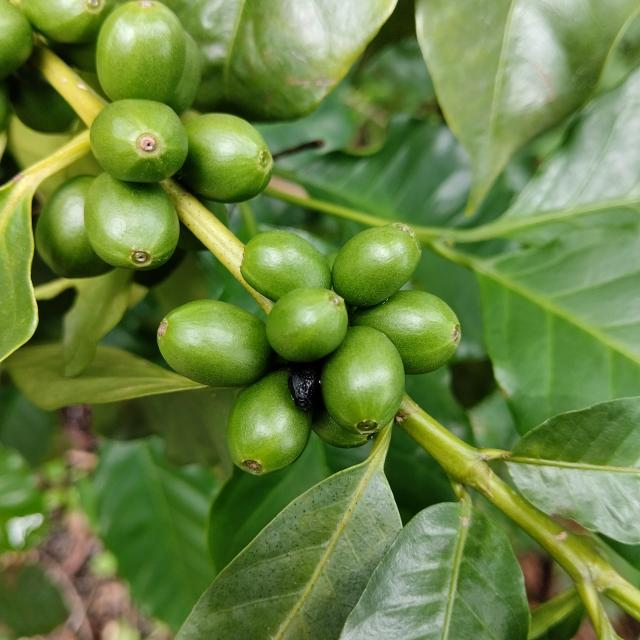green: (157, 300, 273, 387), (83, 172, 179, 270), (350, 290, 461, 374), (95, 0, 185, 102), (321, 326, 405, 434), (227, 370, 312, 476), (179, 113, 273, 203), (89, 99, 188, 182), (34, 175, 112, 278), (332, 222, 422, 306), (240, 231, 332, 301), (266, 288, 348, 362), (167, 29, 202, 114)
